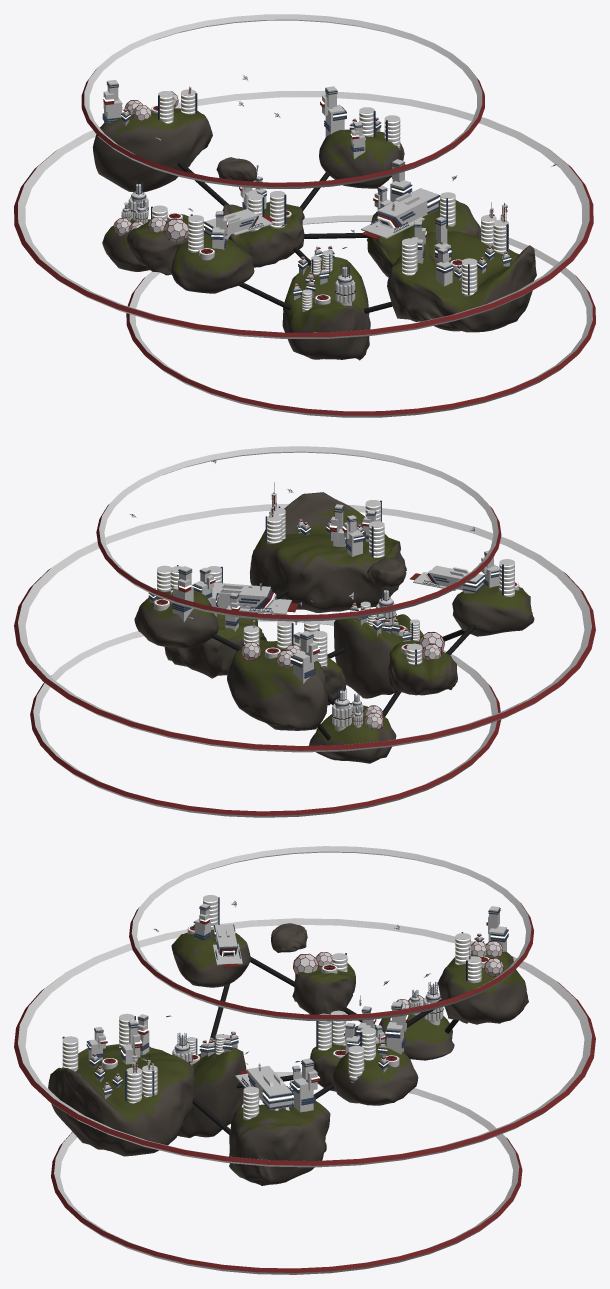
3 views of the same model, one above another, from view 1: azimuth 30°, elevation 25°; view 2: azimuth 150°, elevation 25°; view 3: azimuth 270°, elevation 25° (orthographic).
Parts seen in each view (by area): view 1: polySurface413, bolder11, polySurface797, bolder9, polySurface796, bolder8, bolder5, bolder7, bolder1, bolder2, polySurface154, bolder3 (+11 smaller); view 2: bolder11, polySurface413, polySurface797, bolder9, polySurface796, bolder8, bolder5, bolder7, bolder3, bolder2, bolder4, polySurface154 (+11 smaller); view 3: polySurface413, bolder11, polySurface797, bolder2, polySurface796, bolder9, bolder8, bolder7, bolder5, bolder3, bolder4, polySurface154 (+8 smaller).
Part boxes in pixels (<box>): polySurface413: <box>14,91,593,338</box>; bolder11: <box>387,231,536,332</box>; polySurface797: <box>81,14,484,188</box>; bolder9: <box>92,108,212,192</box>; polySurface796: <box>126,215,595,417</box>; bolder8: <box>282,257,370,360</box>; bolder5: <box>171,232,254,293</box>; bolder7: <box>319,129,404,188</box>; bolder1: <box>222,202,304,267</box>; bolder2: <box>367,200,480,277</box>; polySurface154: <box>361,188,440,239</box>; bolder3: <box>127,214,188,275</box>; bolder11: <box>250,492,406,612</box>; polySurface413: <box>14,504,595,752</box>; polySurface797: <box>96,446,501,621</box>; bolder9: <box>227,638,327,730</box>; polySurface796: <box>30,619,500,817</box>; bolder8: <box>334,614,423,698</box>; bolder5: <box>452,583,534,636</box>; bolder7: <box>134,590,218,648</box>; bolder3: <box>388,641,457,695</box>; bolder2: <box>164,614,266,678</box>; bolder4: <box>309,705,396,763</box>; polySurface154: <box>212,582,298,614</box>; polySurface413: <box>14,918,595,1167</box>; bolder11: <box>48,1044,195,1156</box>; polySurface797: <box>129,846,533,1021</box>; bolder2: <box>229,1101,330,1185</box>; polySurface796: <box>51,1071,522,1274</box>; bolder9: <box>438,951,528,1024</box>; bolder8: <box>177,1047,246,1137</box>; bolder7: <box>332,1043,418,1105</box>; bolder5: <box>171,929,251,987</box>; bolder3: <box>292,963,355,1014</box>; bolder4: <box>379,1014,454,1060</box>; polySurface154: <box>235,1066,293,1110</box>.
Bounding box in the file's own units: 25.65 × 10.64 × 25.62.
